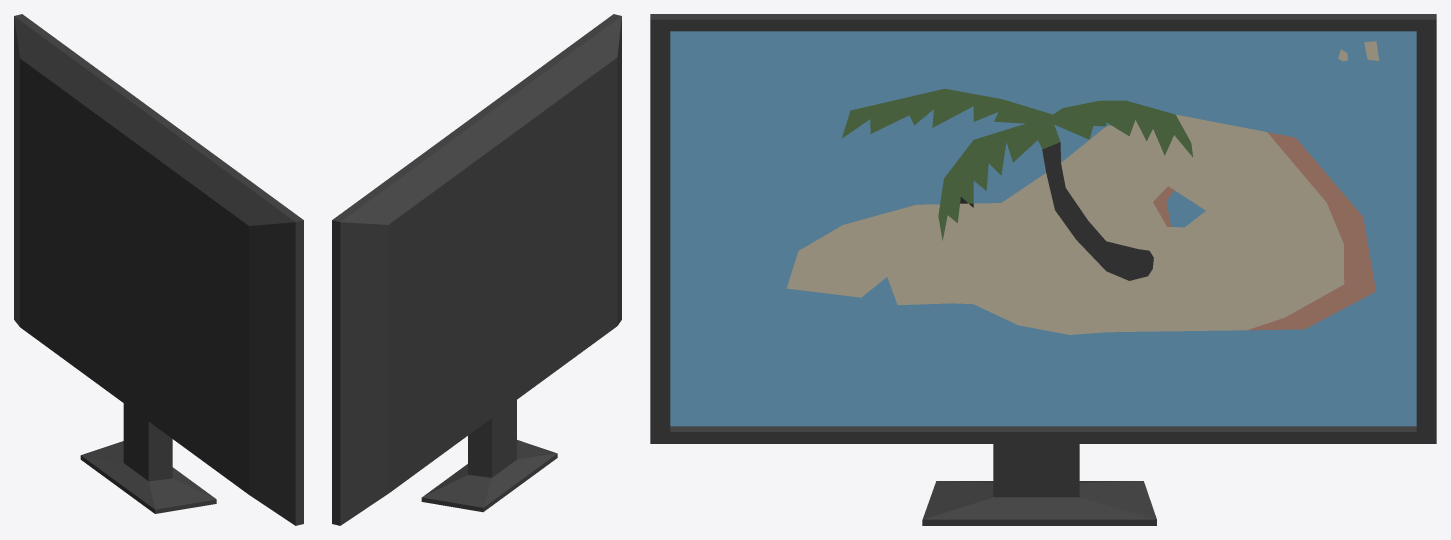
3 renders of one model, left to right at view 1: azimuth 30°, elevation 25°; view 2: azimuth 150°, elevation 25°; view 3: azimuth 270°, elevation 25°, orthographic. The views are drawn at different scales.
Parts seen in each view (by area): view 1: Cube.011; view 2: Cube.011; view 3: Cube.011.
Part boxes in pixels (left/top/right/bottom): Cube.011: left=14, top=14, right=303, bottom=525; Cube.011: left=332, top=14, right=621, bottom=525; Cube.011: left=650, top=14, right=1436, bottom=525.
Size of the model in its own units: 16 by 96.3 by 137.
